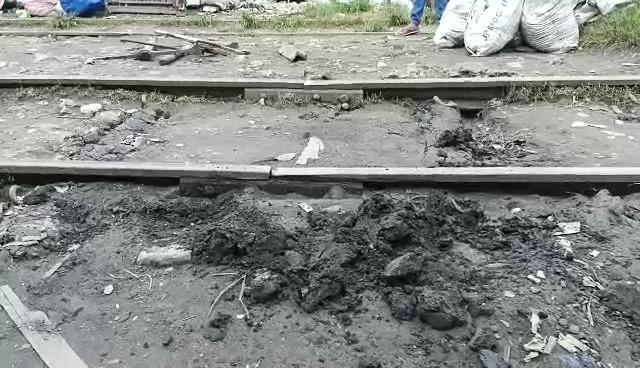railway-gap: (250, 150, 293, 194)
